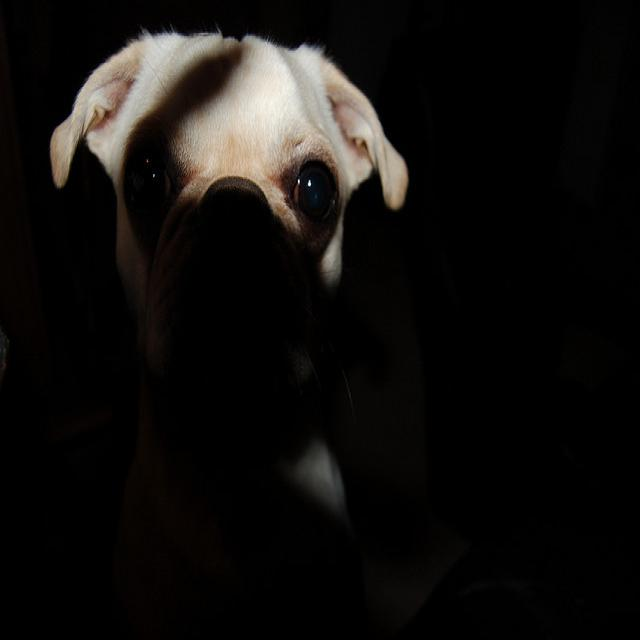Dog: (49, 8, 473, 631)
